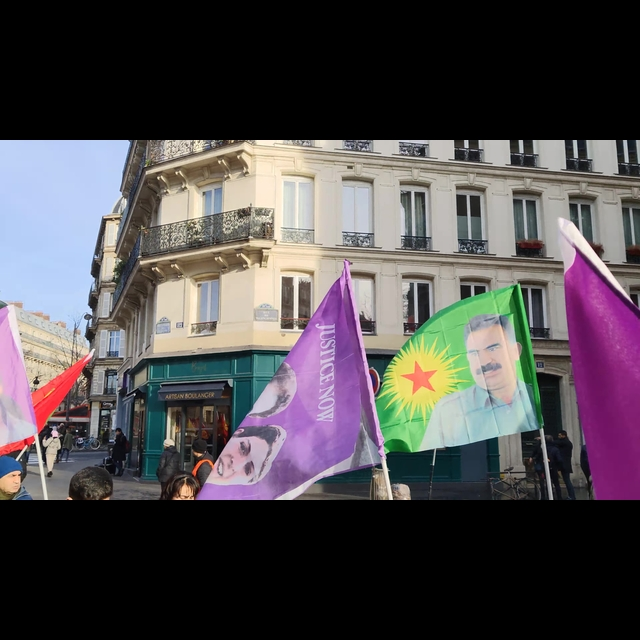APO: (462, 309, 524, 402)
KCK: (388, 340, 470, 429)
